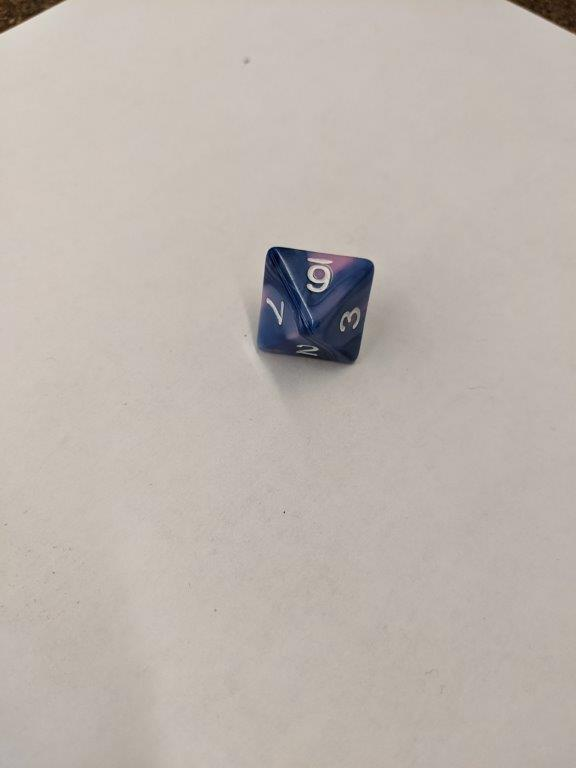d8-6: (252, 243, 375, 368)
